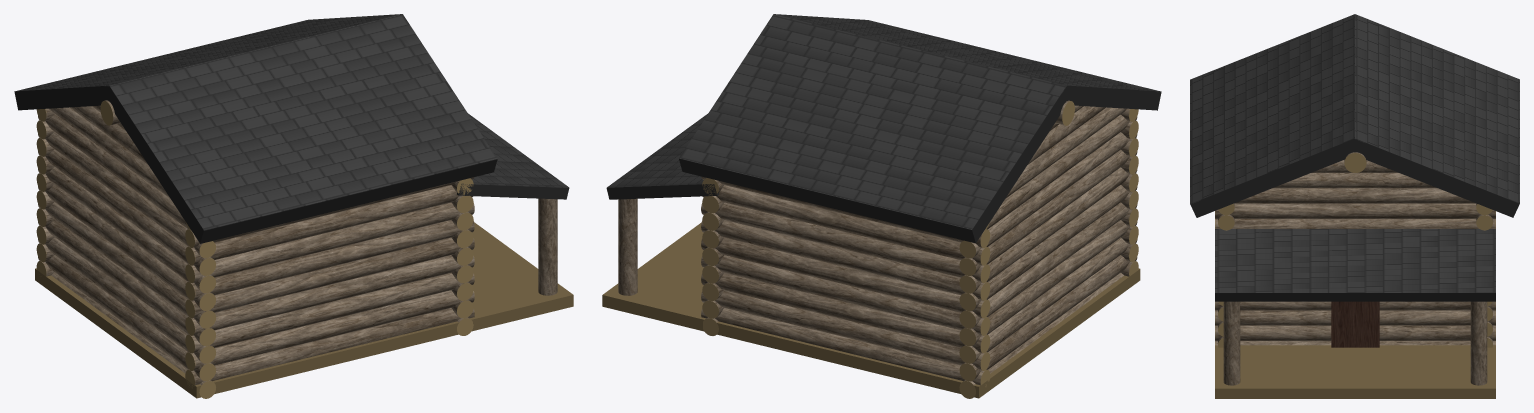
Rendered from House.fbx.
The picture shows the model from 3 angles, left to right: view 1: azimuth 30°, elevation 25°; view 2: azimuth 150°, elevation 25°; view 3: azimuth 270°, elevation 25°; orthographic projection. The views are drawn at different scales.
Parts seen in each view (by area): view 1: House1; view 2: House1; view 3: House1.
Boxes of the visible parts, box(x1,y1,x2,y2) form: House1: box(14, 14, 573, 398); House1: box(602, 14, 1161, 398); House1: box(1190, 14, 1519, 398).
Size of the model in its own units: 34.48 by 22.08 by 29.36.
